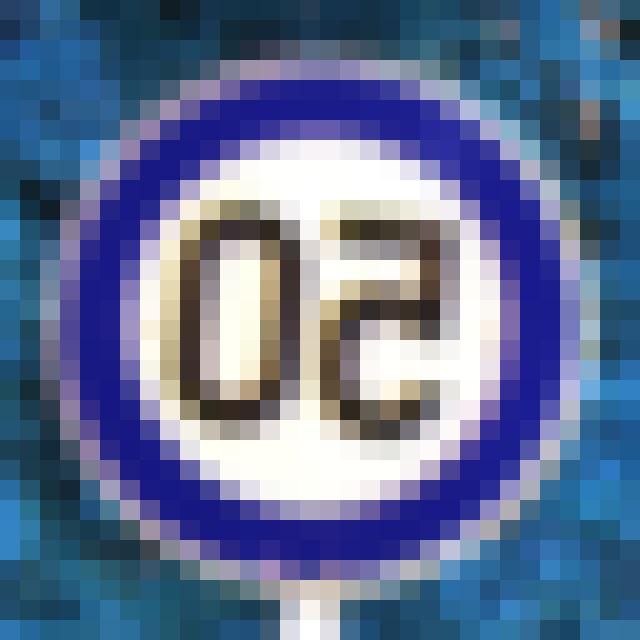SPEED LIMIT 50: (62, 94, 562, 574)
